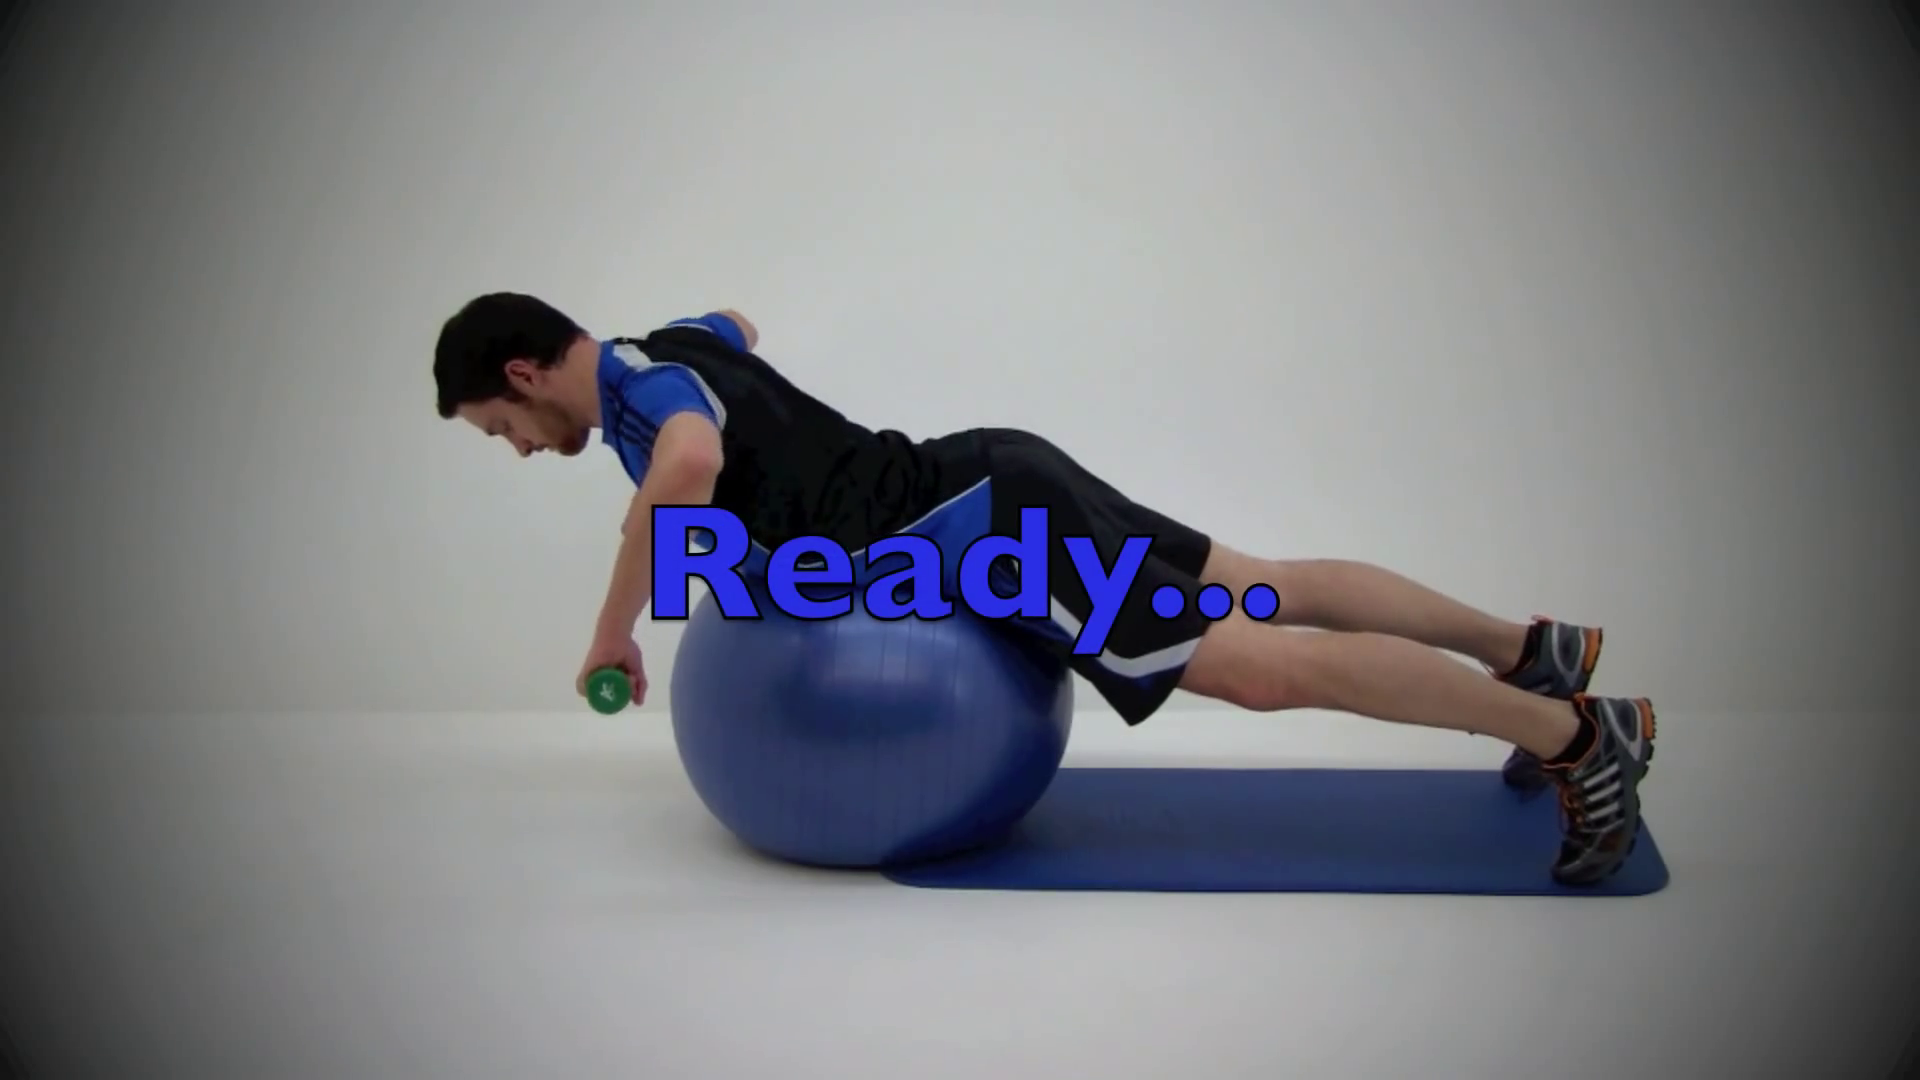yogaball: (662, 541, 1089, 873)
